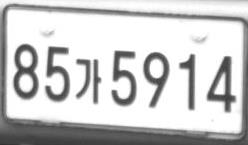1: (175, 53, 202, 110)
4: (206, 55, 236, 112)
5: (111, 50, 137, 106), (44, 46, 69, 102)
8: (13, 43, 38, 99)
9: (143, 51, 170, 108)
가: (75, 58, 101, 104)
